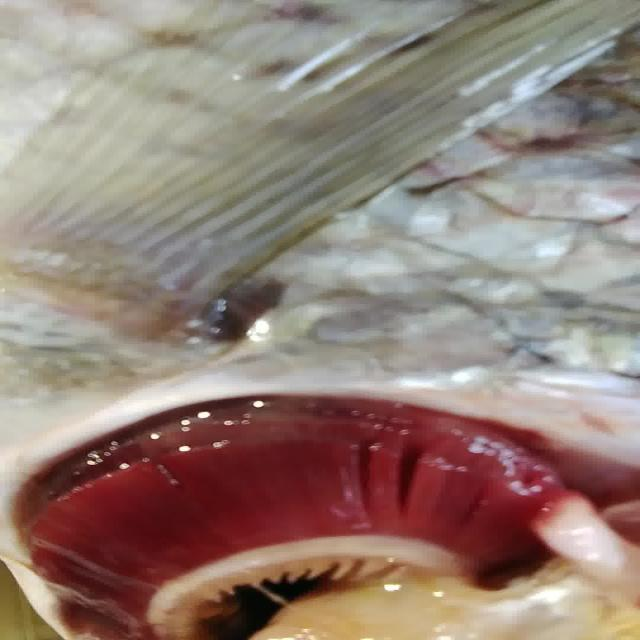Fresh: (28, 374, 640, 640)
